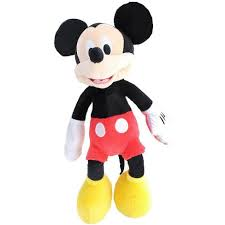mickey: (53, 2, 170, 225)
